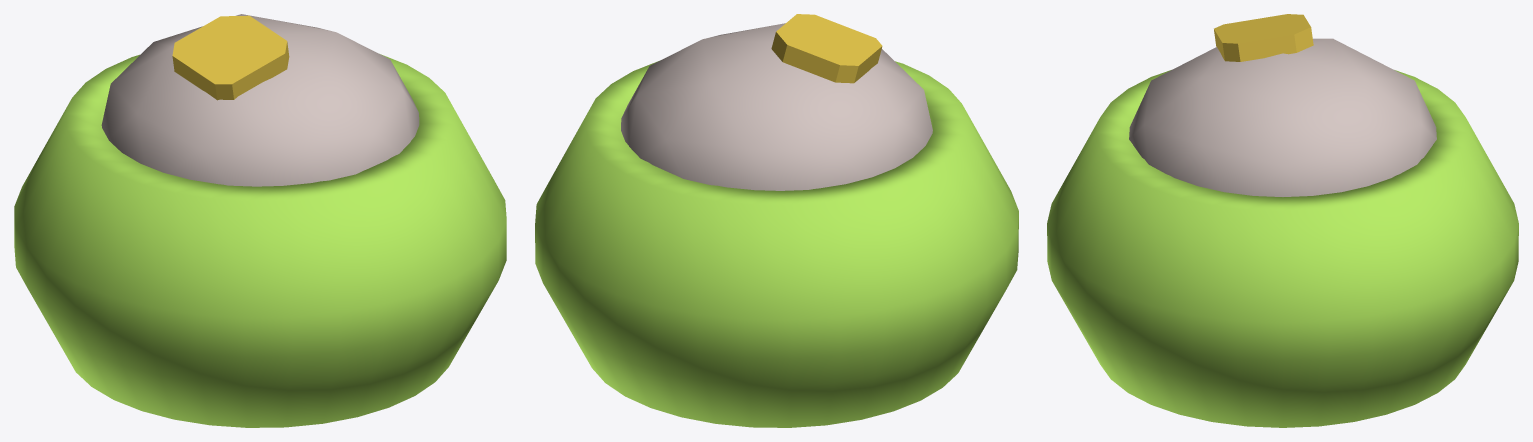
The model's file is potatoes.fbx.
The picture shows the model from 3 angles, left to right: view 1: azimuth 30°, elevation 25°; view 2: azimuth 150°, elevation 25°; view 3: azimuth 270°, elevation 25°; orthographic projection. The views are drawn at different scales.
Visible parts, largest first — view 1: Cube; view 2: Cube; view 3: Cube.
Boxes of the visible parts, x1=… form: Cube: x1=14, y1=14, x2=506, y2=427; Cube: x1=535, y1=14, x2=1018, y2=427; Cube: x1=1047, y1=14, x2=1518, y2=427.
Size of the model in its own units: 768 by 561 by 768.
